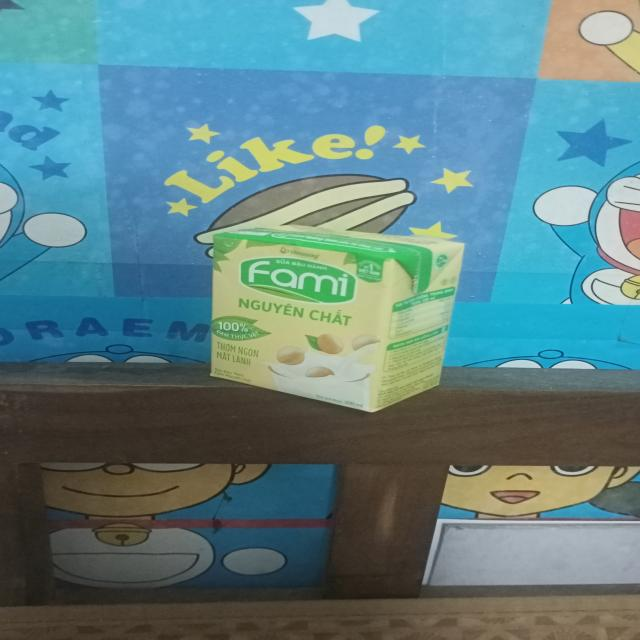Fami: (207, 228, 462, 414)
